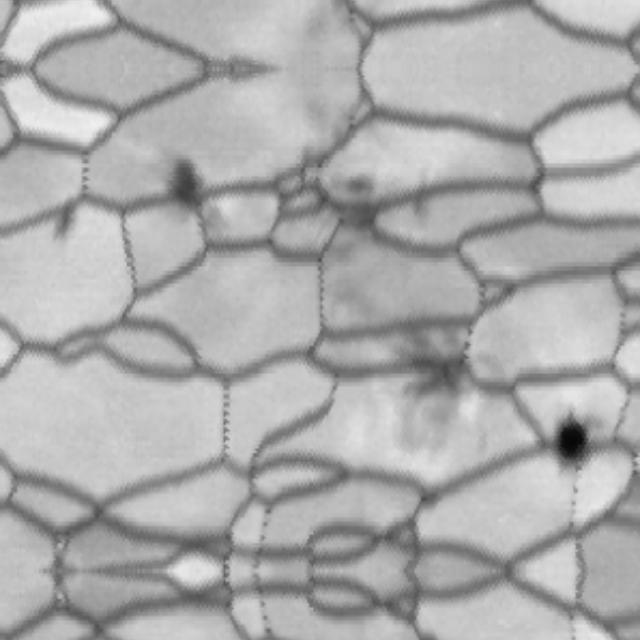good_void: (368, 304, 506, 463), (301, 157, 404, 264), (147, 146, 215, 235), (540, 403, 603, 486), (541, 407, 609, 475), (36, 191, 95, 250)
